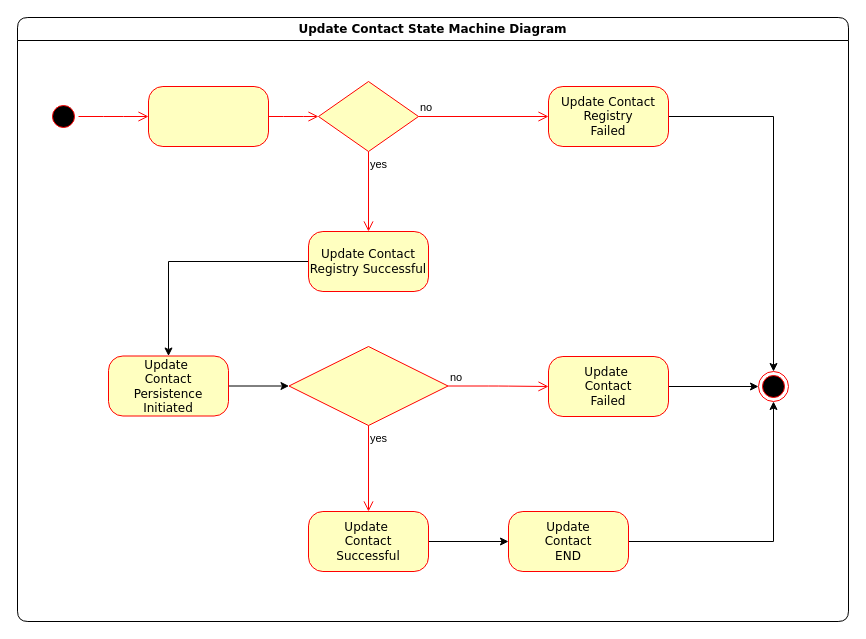
Some shapes in this 866 by 639 pixel diagram are drawn without their labels. Here are the shapes that lost their labels. From the top down, the box of each, then its label:
(148, 86, 268, 146): Update Contact Registry Initiated
(318, 80, 418, 152): PUT Registry Succesfull
(288, 346, 448, 426): PUT Persistcence Successful
